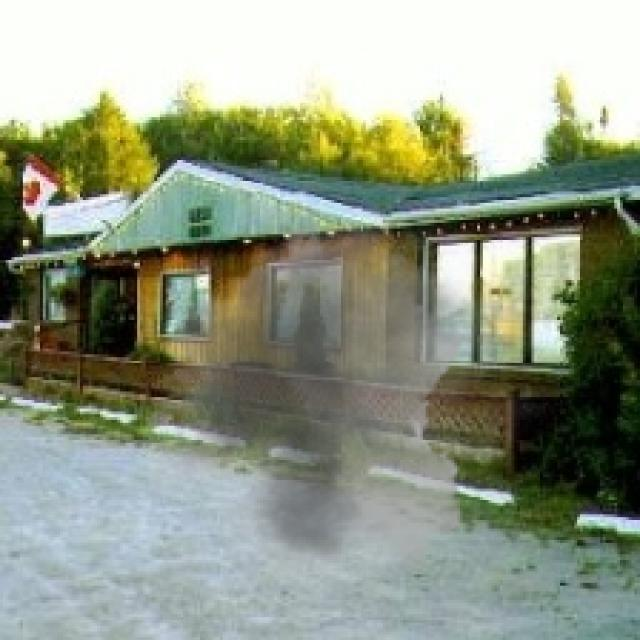smoke: (123, 203, 548, 594)
